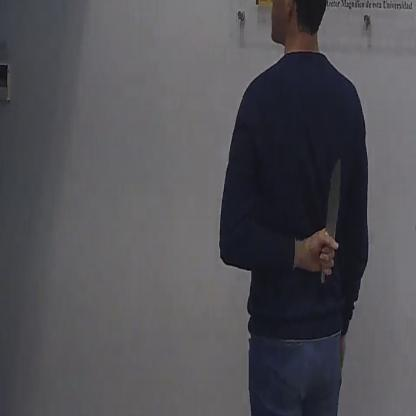knife: (312, 146, 346, 287)
